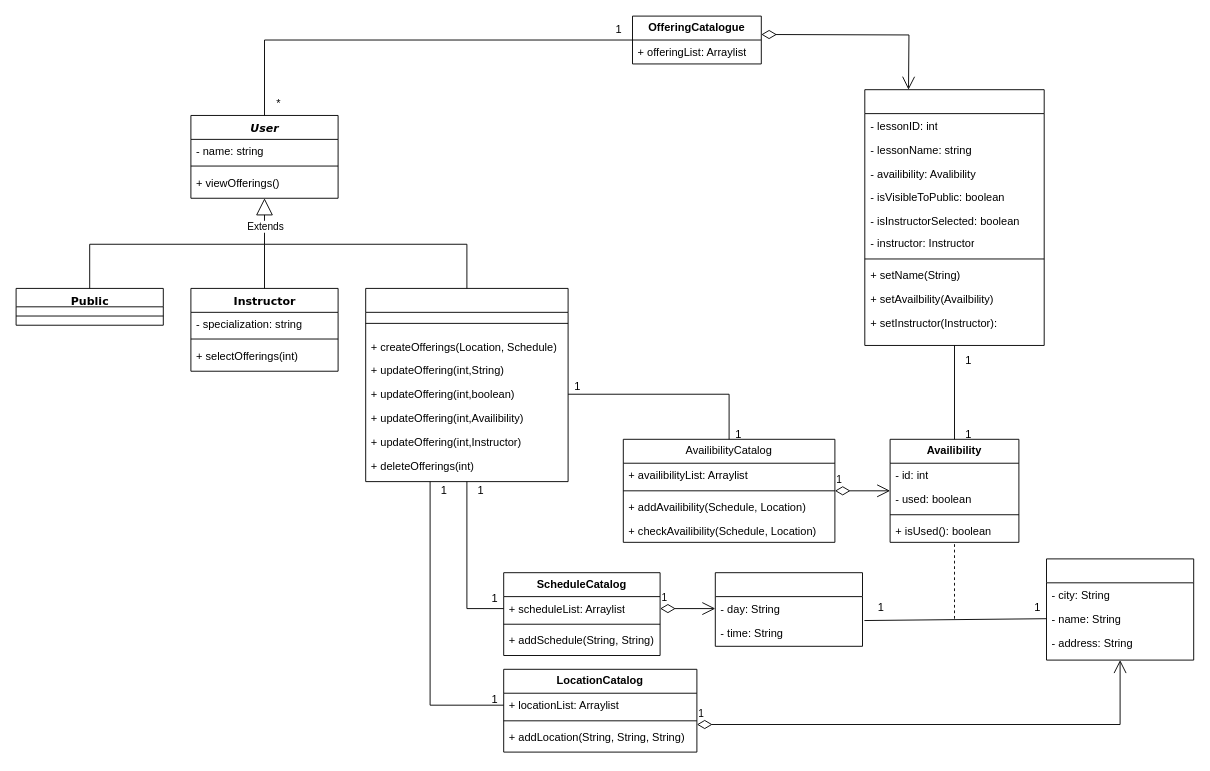
This 1210x771 diagram has some shape labels left out. Here are the shapes that lost their labels. From the top down, the box of each, then its label:
(864, 89, 1044, 345): Offerings
(365, 288, 568, 482): Administrator
(714, 572, 862, 646): Schedule
(1046, 558, 1194, 660): Location
